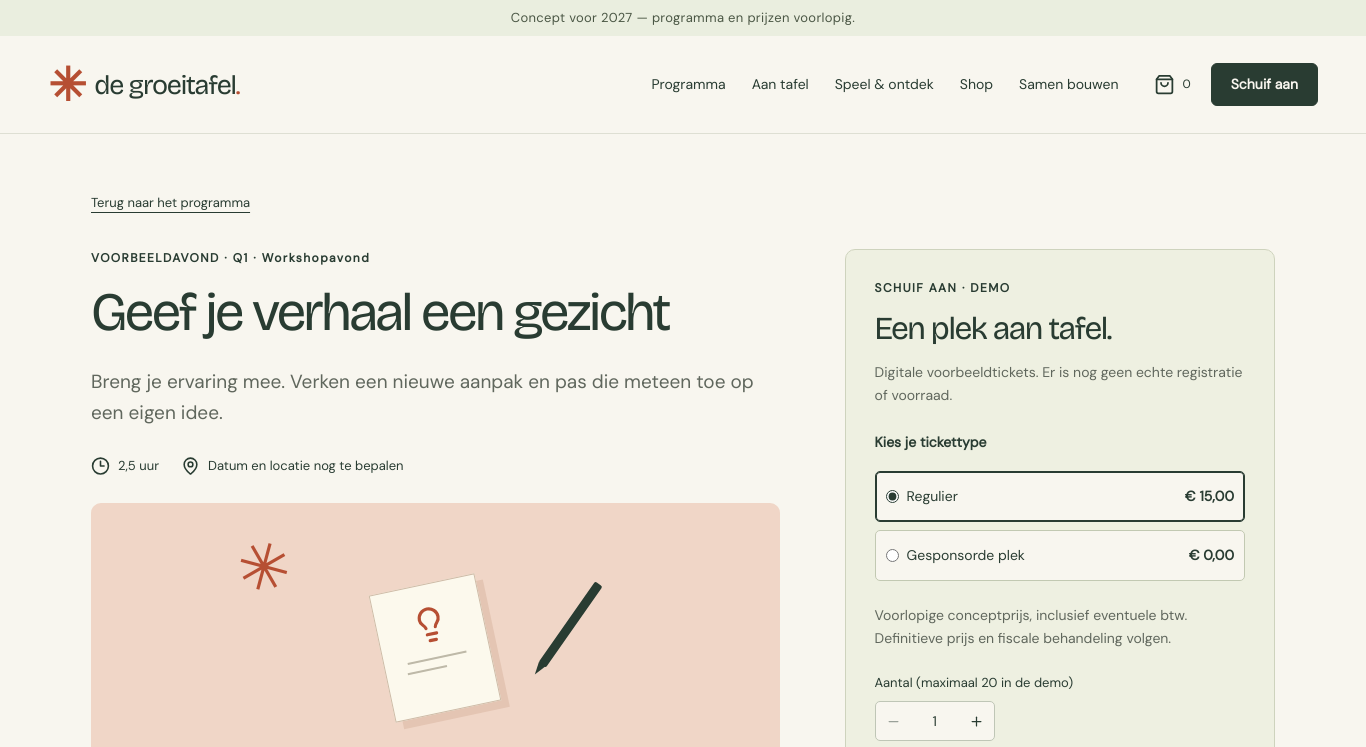
sponsored ticket selection adds correct digital item
The image size is (1366, 747).
Click the radio button labelled "Gesponsorde plek € 0,00": [892, 556] box [886,549,899,562]
(page scrolled)
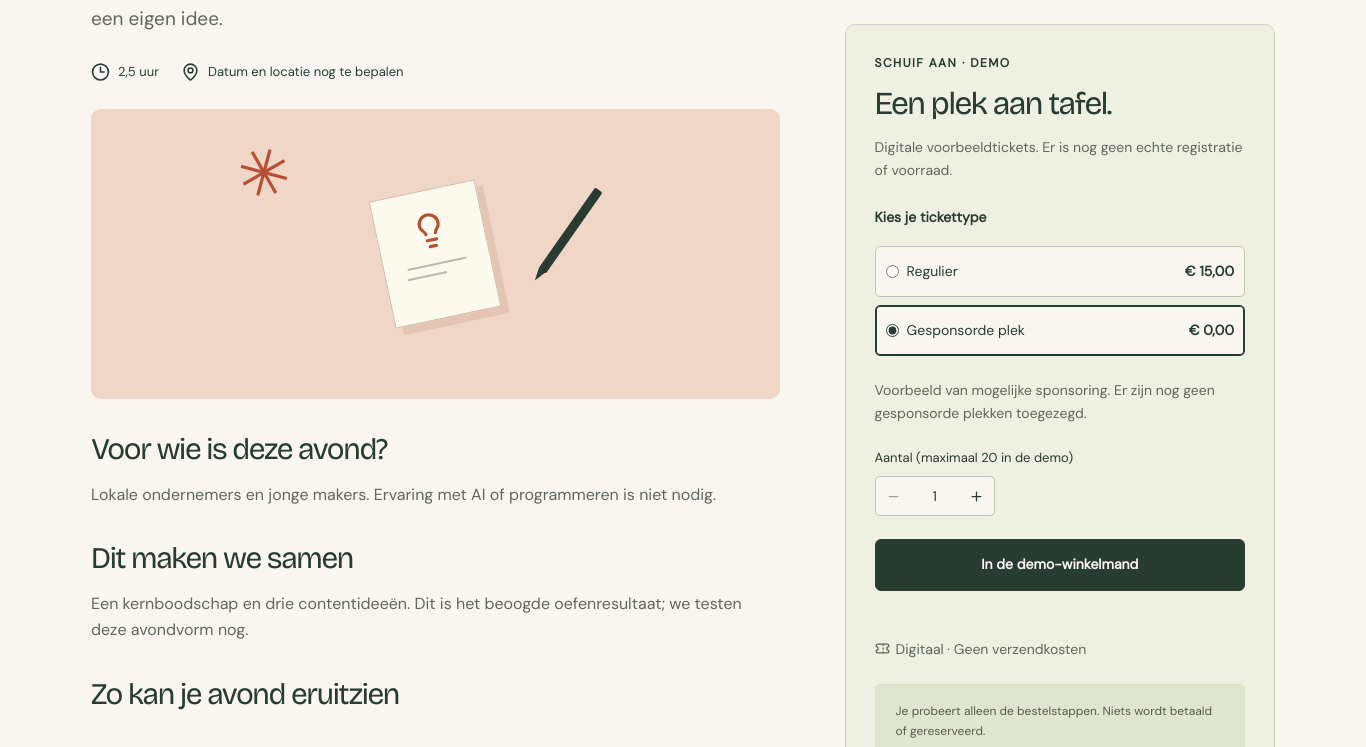
Click the button "In de demo-winkelmand": [1060, 565] box [875,540,1245,591]
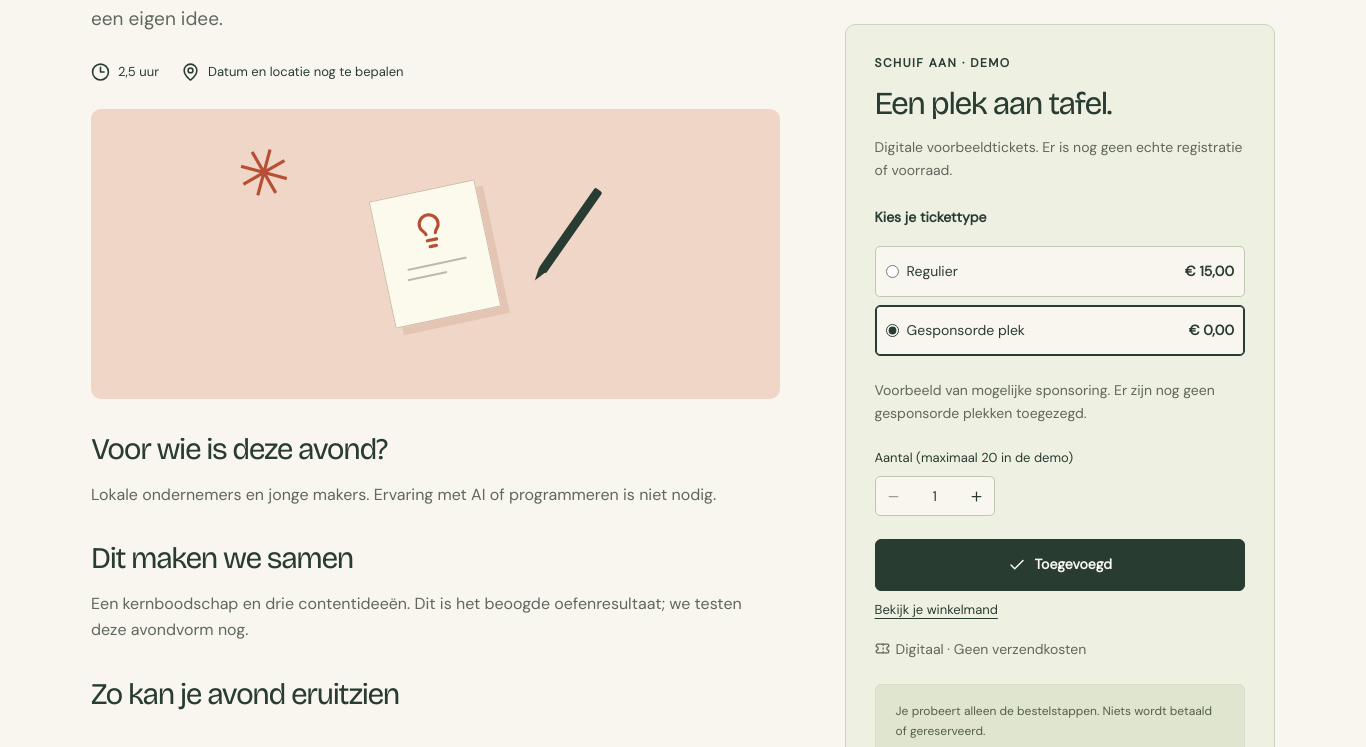
Expected: the link "Bekijk je winkelmand" is shown, [875,601,998,618]
